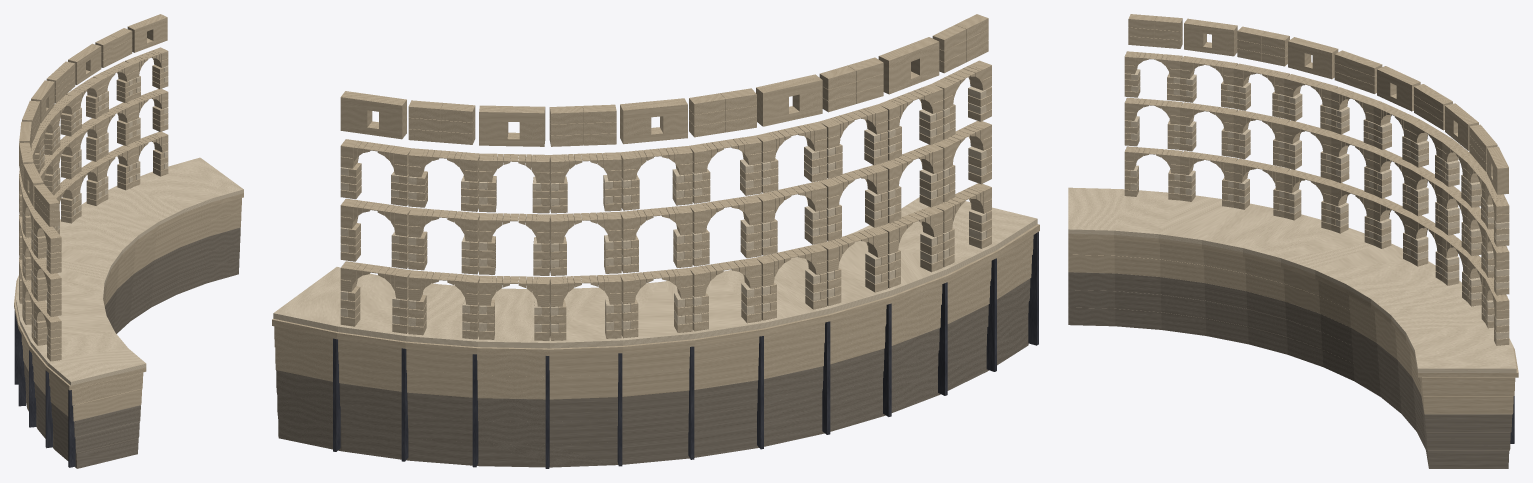
File: COL_StoneMasonry_Q3.obj
3 renders of one model, left to right at view 1: azimuth 30°, elevation 25°; view 2: azimuth 150°, elevation 25°; view 3: azimuth 270°, elevation 25°, orthographic. The views are drawn at different scales.
Visible parts, largest first — view 1: COL_StoneMasonry_Q3; view 2: COL_StoneMasonry_Q3; view 3: COL_StoneMasonry_Q3.
Boxes of the visible parts, bbox=[...] form: COL_StoneMasonry_Q3: bbox=[14, 14, 243, 468]; COL_StoneMasonry_Q3: bbox=[272, 14, 1039, 468]; COL_StoneMasonry_Q3: bbox=[1068, 14, 1518, 468].
Bounding box in the file's own units: 128 × 91.14 × 134.
4 materials, 4 textured.
